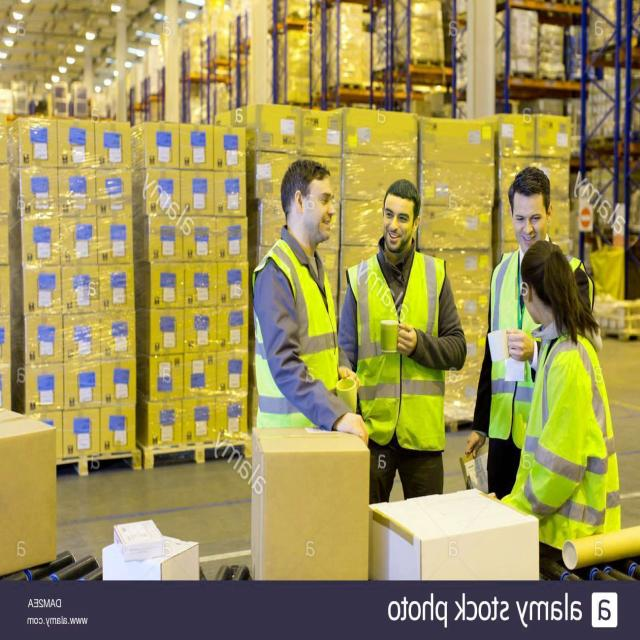face_nomask: (300, 181, 337, 247), (507, 198, 549, 248), (378, 205, 414, 261)
hand_noglove: (391, 316, 421, 362), (459, 426, 488, 470), (505, 322, 531, 369), (338, 411, 368, 445)
head_nohelmet: (502, 158, 558, 202), (382, 165, 422, 209), (517, 238, 560, 275), (282, 152, 331, 183)
person: (468, 167, 590, 471), (352, 177, 452, 494), (518, 241, 608, 552), (248, 158, 352, 426)
vest: (469, 243, 579, 432), (519, 346, 613, 538), (353, 251, 443, 448), (258, 252, 338, 427)
